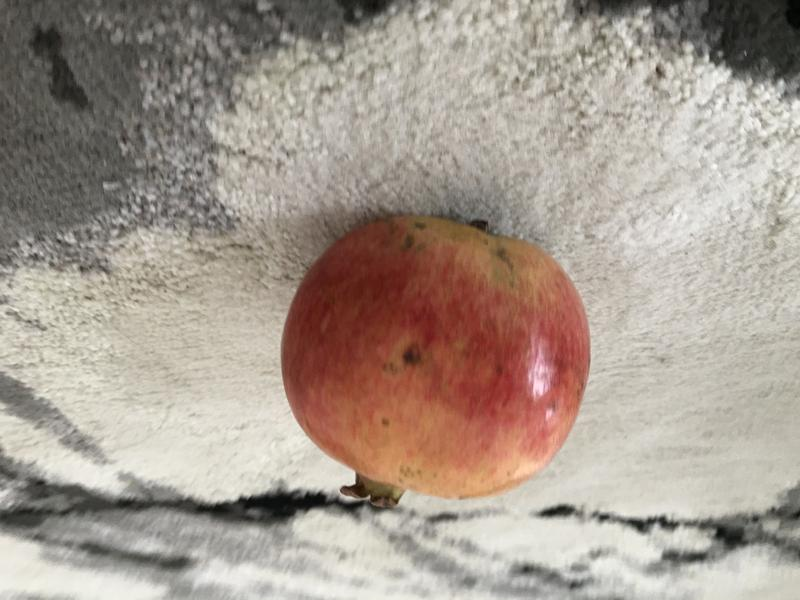pomegranate: (271, 202, 598, 523)
